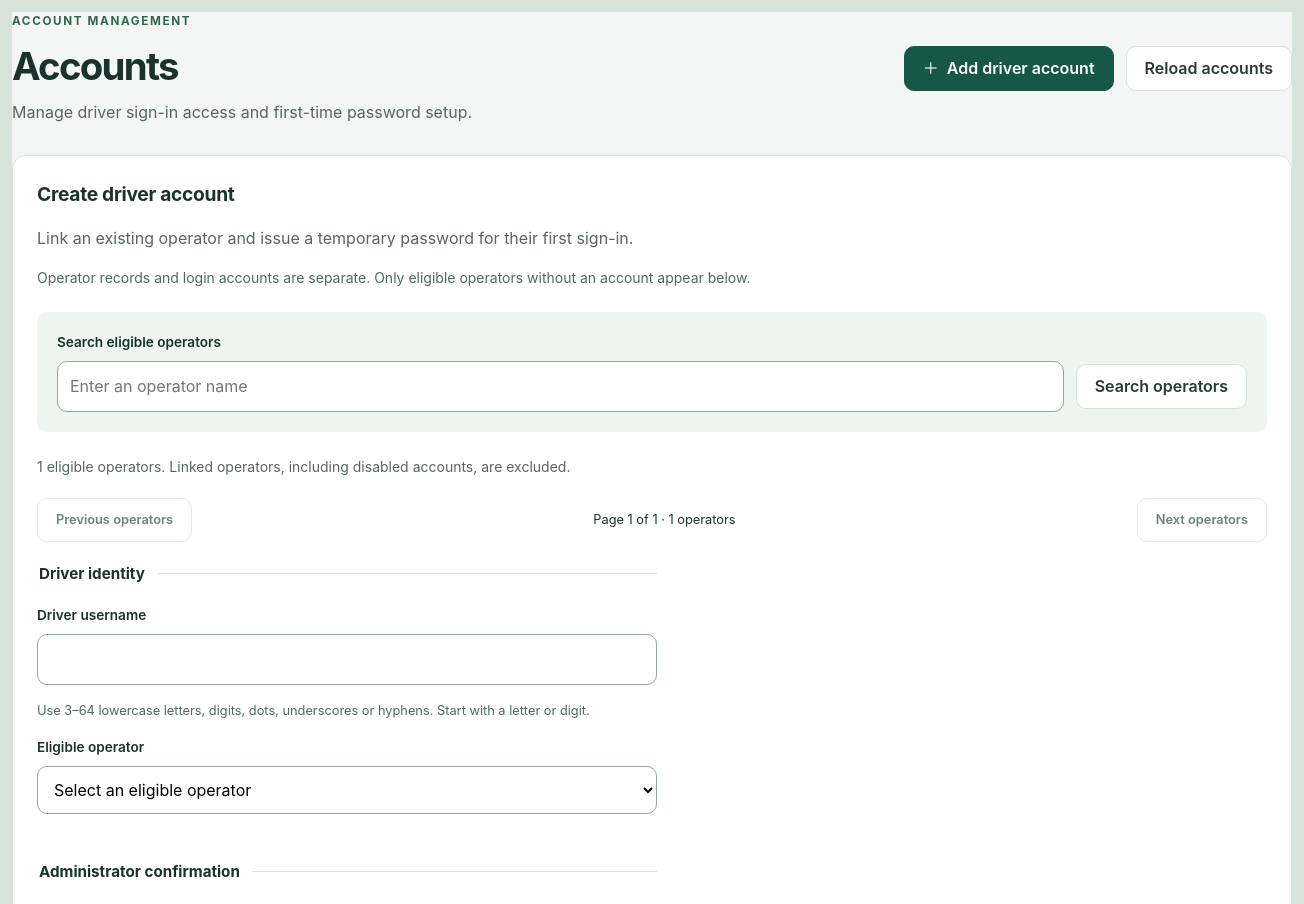
Test: React administrator accounts › explains that operator-search recovery still requires a full account reload
The image size is (1304, 904).
Expected: the dropdown labelled "Eligible operator" is enabled, [37,766,657,814]
Click the button "Search operators" at (1161, 387), box [1076,364,1247,409]
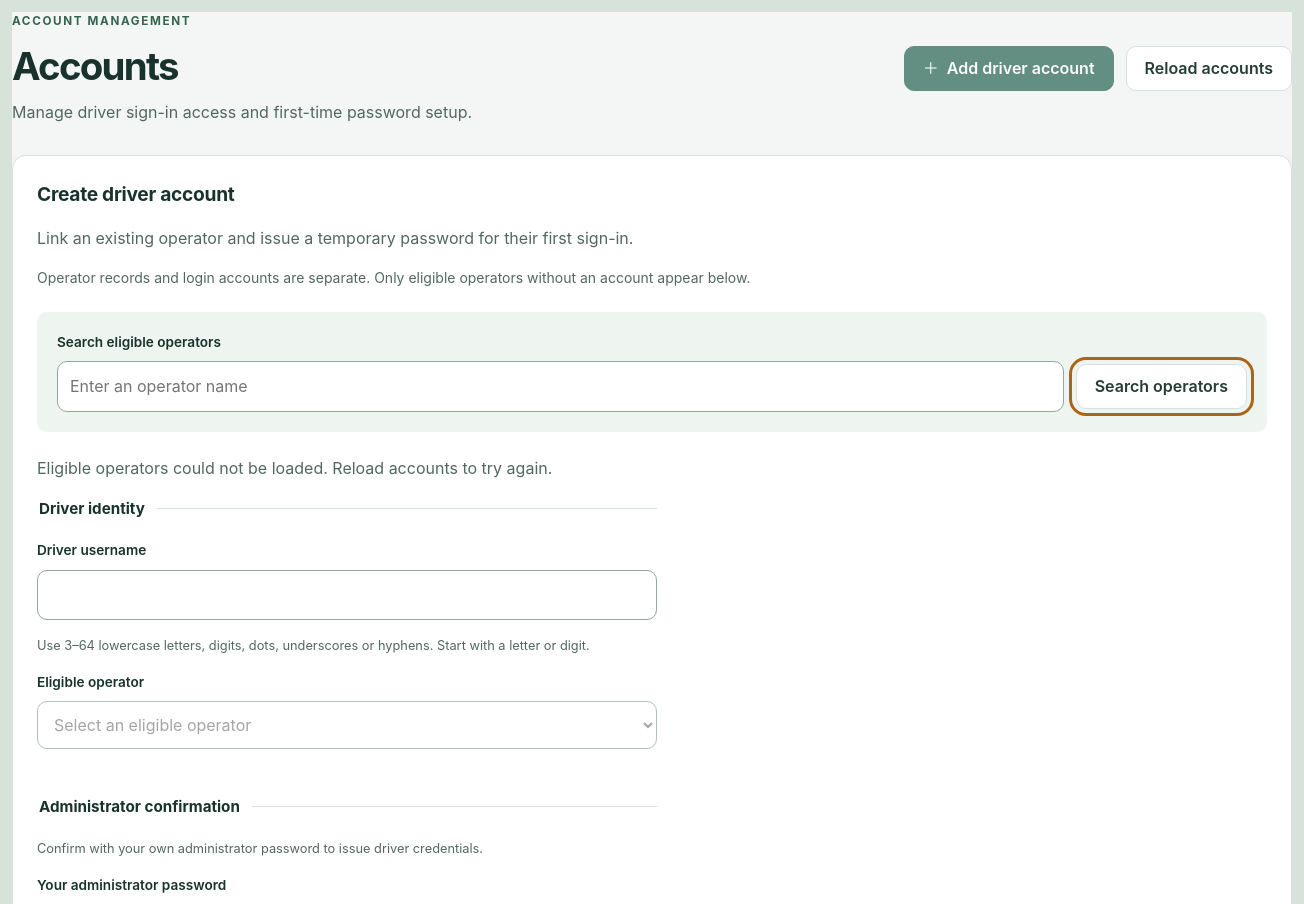
Now the text "Eligible operators could not be loaded. Reload accounts to try again." is shown, box [37,458,552,478]
Click the button "Search operators" at (1161, 387), box [1076,364,1247,409]
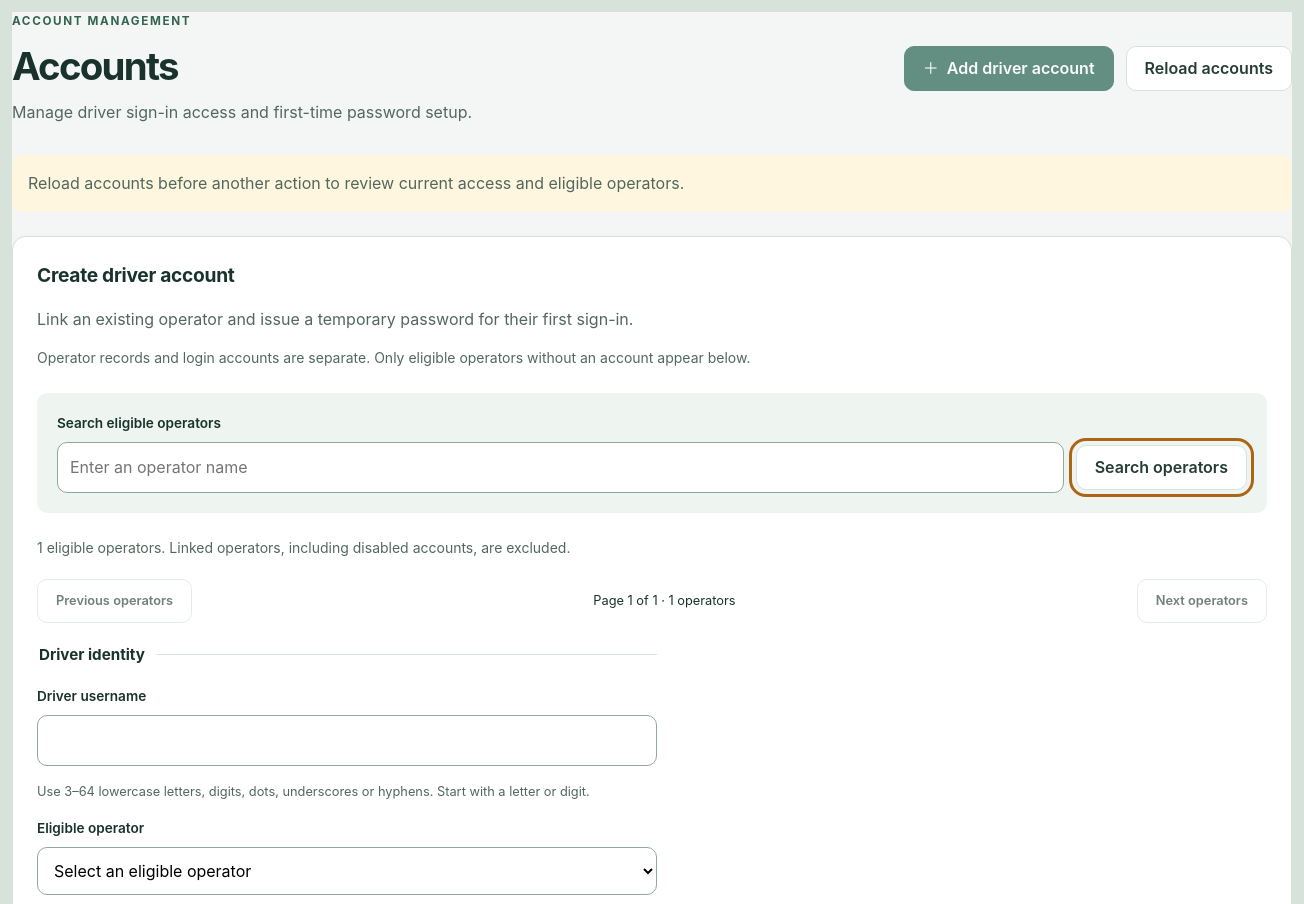
Now the button "＋ Add driver account" is disabled, box [904,46,1114,91]
Now the text "Reload accounts before another action to review current access and eligible operators." is shown, box [28,173,684,193]
Click the button "Reload accounts" at (1209, 68), box [1126,46,1292,91]
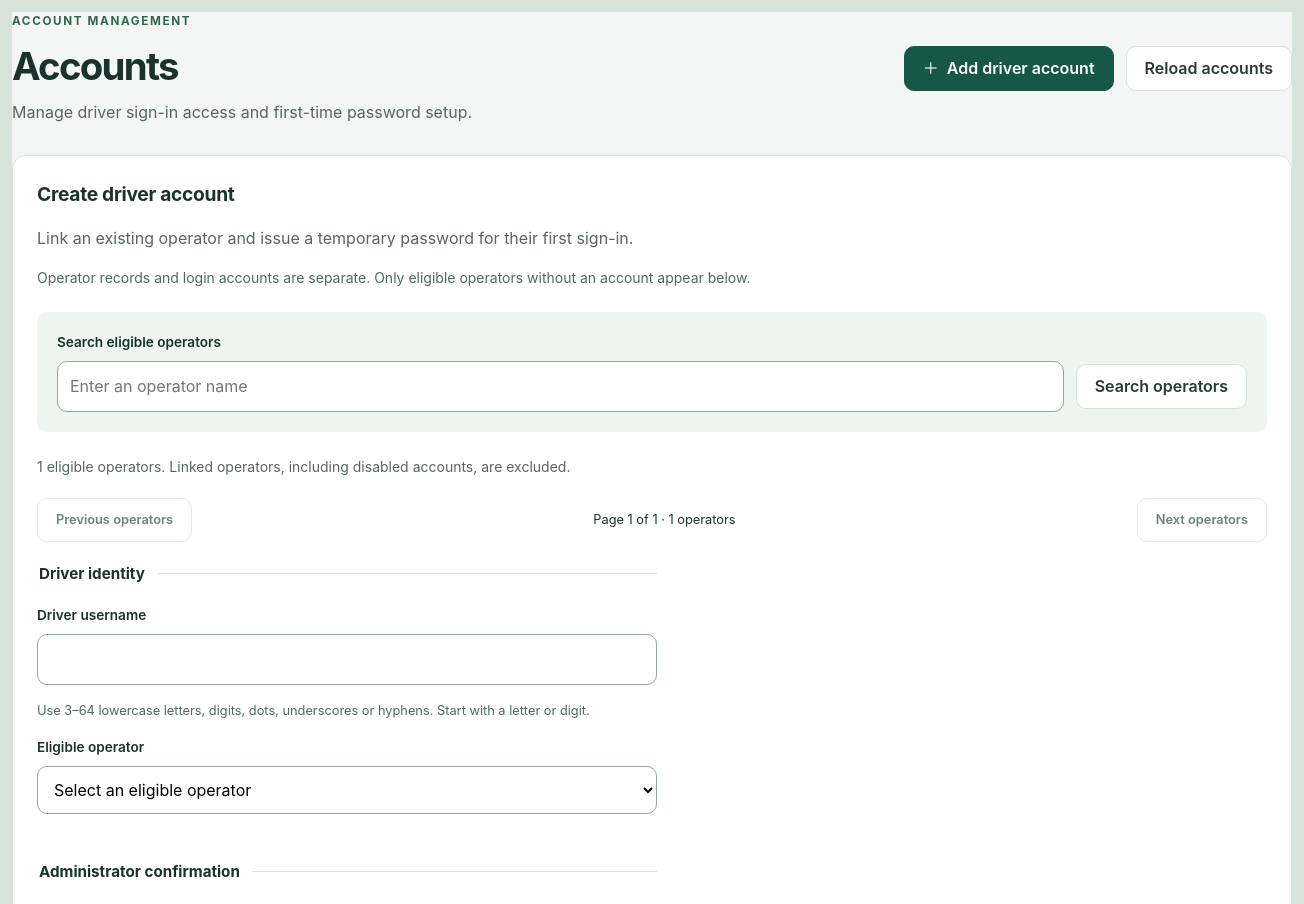
Now the button "＋ Add driver account" is enabled, box [904,46,1114,91]
